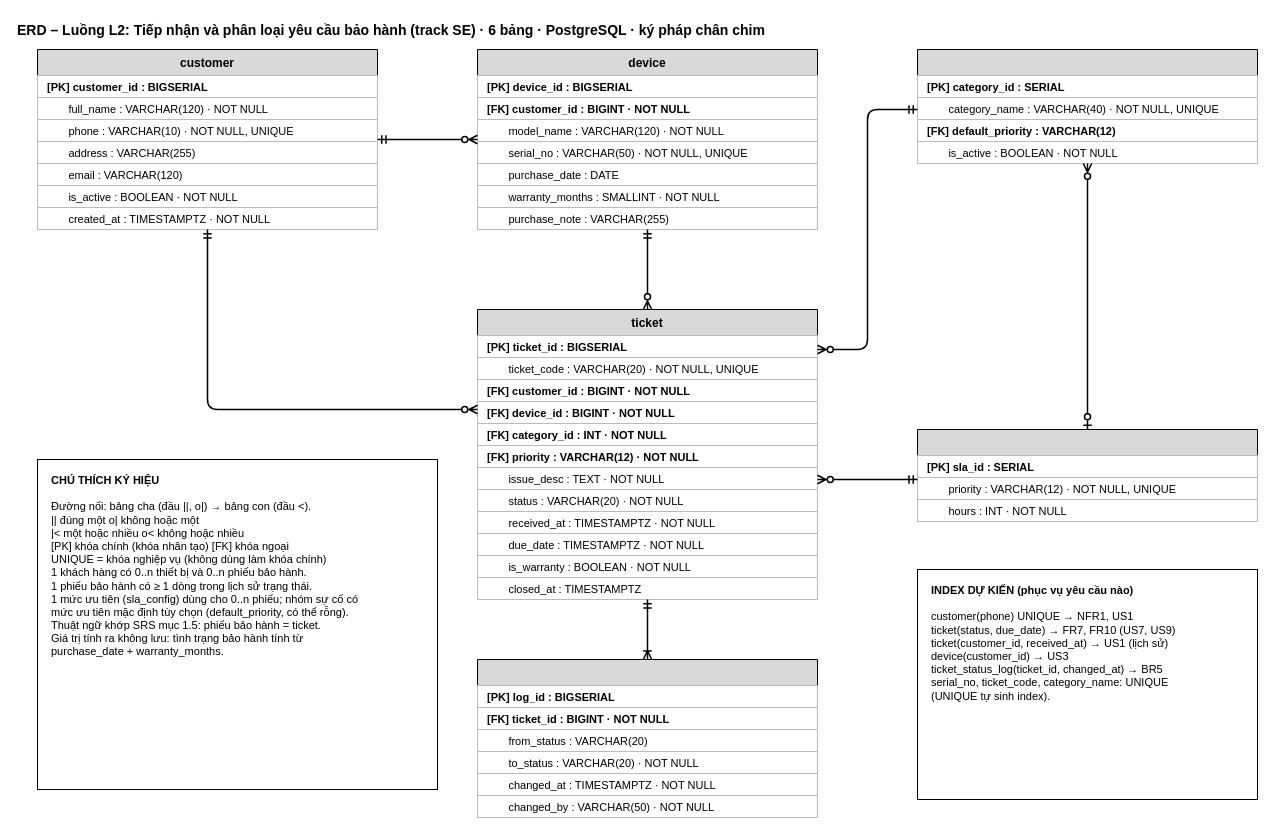
The diagram is 1275 pixels wide and 835 high, and some of its shapes have lost their labels. The box of each missing label's shape, as (x1, y1, x2, y2) in pixels:
issue_category: (916, 48, 1258, 164)
sla_config: (916, 428, 1258, 522)
ticket_status_log: (476, 658, 818, 818)
